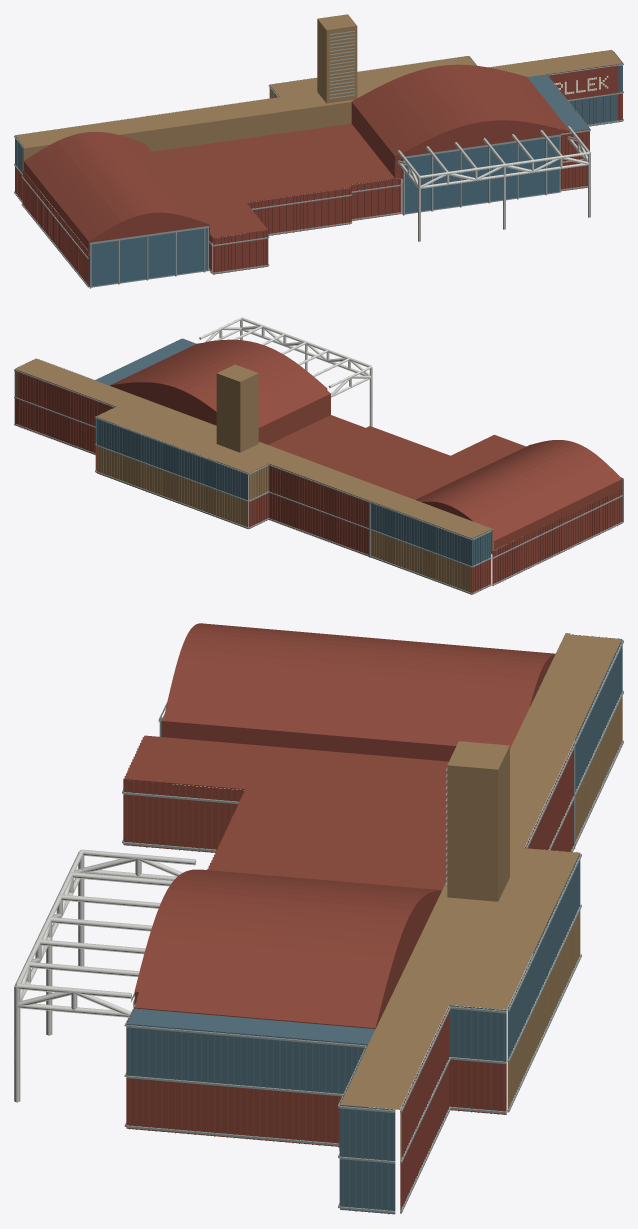
Rendered from pllek.glb.
The picture shows the model from 3 angles, top to bottom: view 1: azimuth 30°, elevation 25°; view 2: azimuth 150°, elevation 25°; view 3: azimuth 270°, elevation 25°; orthographic projection. The views are drawn at different scales.
Visible parts, largest first — view 1: pllek; view 2: pllek; view 3: pllek.
Part boxes in pixels (x1,y1,x2,y2): pllek: (14,14,623,288); pllek: (14,317,623,594); pllek: (14,623,623,1214).
Size of the model in its own units: 57.72 by 12.55 by 29.29.
